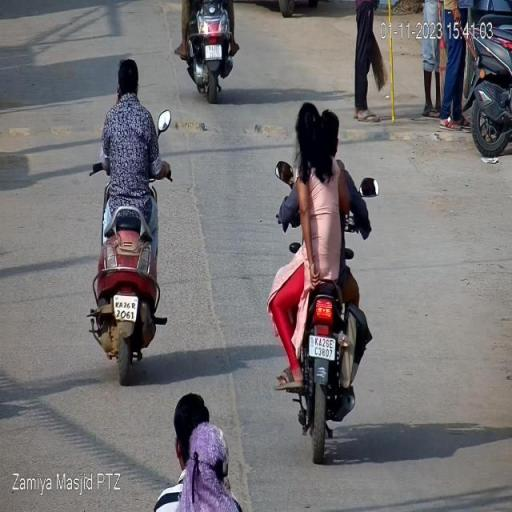using mobile: (112, 80, 124, 104)
